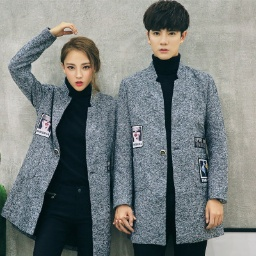face: (143, 1, 190, 59), (61, 34, 102, 94)
